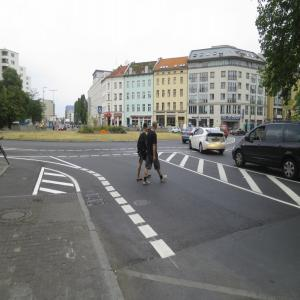Vehicle-registration-plate: (213, 139, 221, 143)
